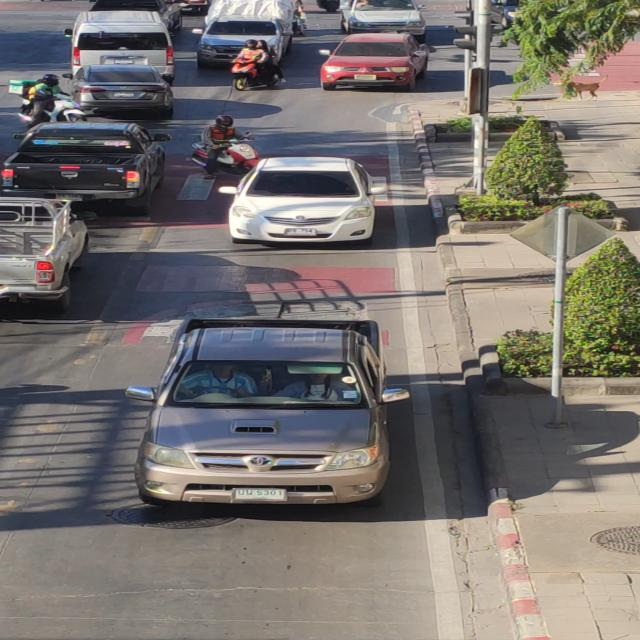car: (102, 310, 430, 518), (220, 147, 392, 263)
